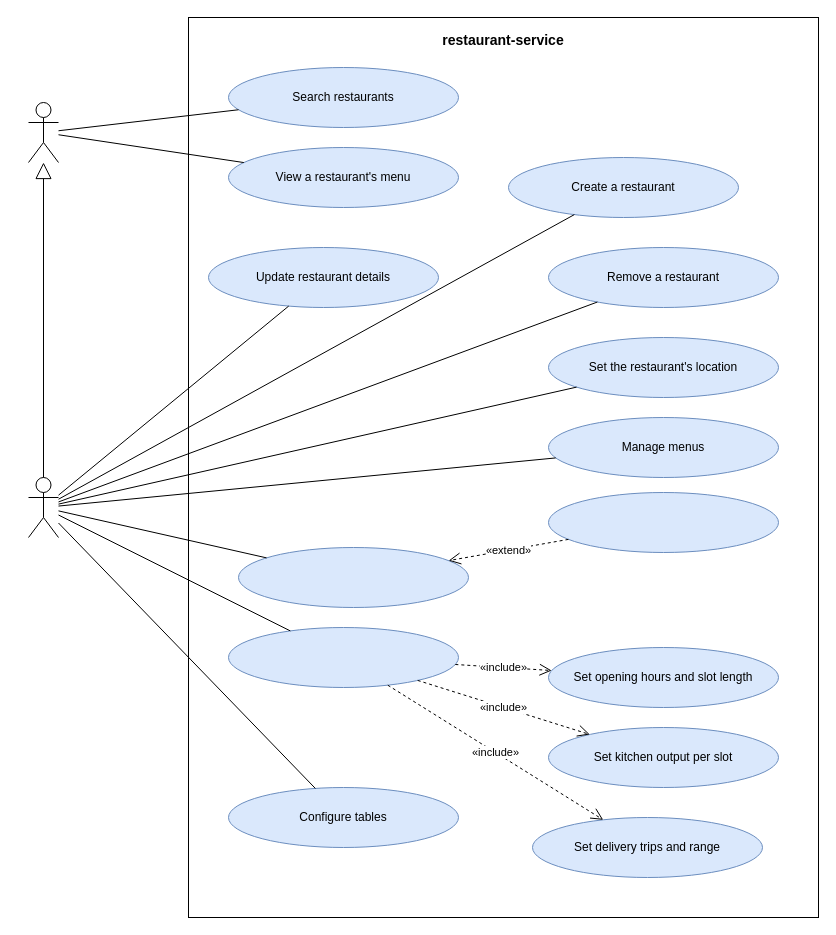
This 836x935 diagram has some shape labels left out. The shapes that lost their labels are listed below. From the top down, each one's centre as x and y in pixels, then its label:
At (43,132): "Customer".
At (43,507): "Manager".
At (663,522): "Define variations".
At (353,577): "Manage categories and menu items".
At (343,657): "Configure the capacity policy".
